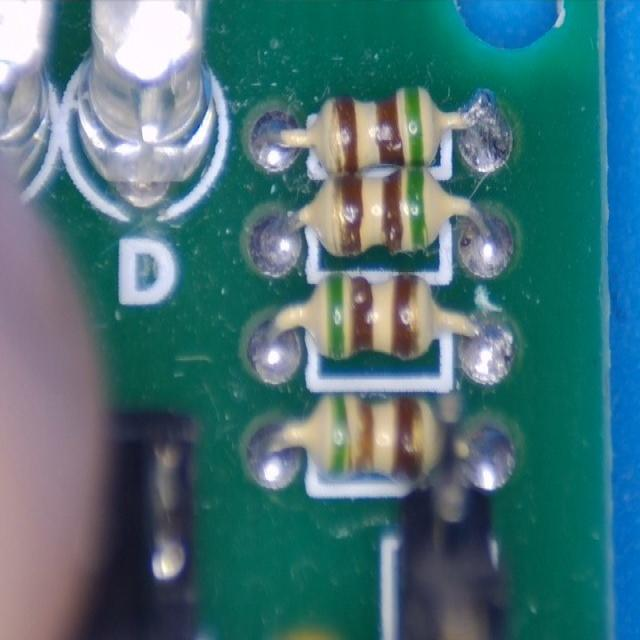Dry_joint: (459, 89, 510, 171)
